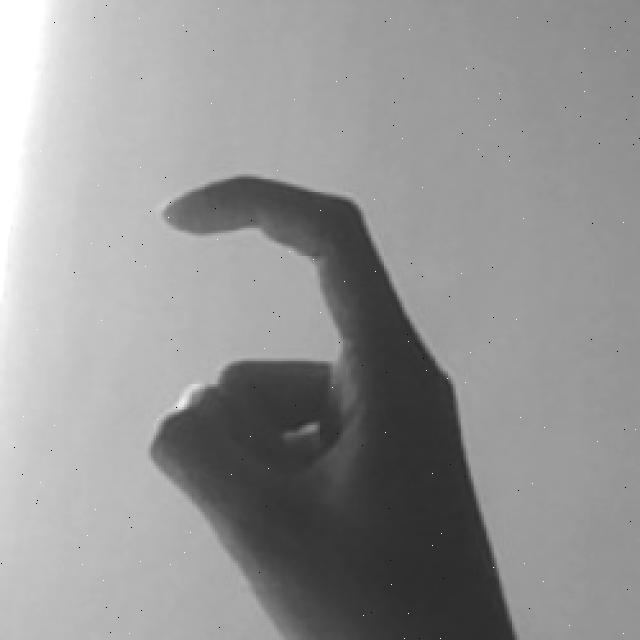X: (141, 168, 521, 640)
